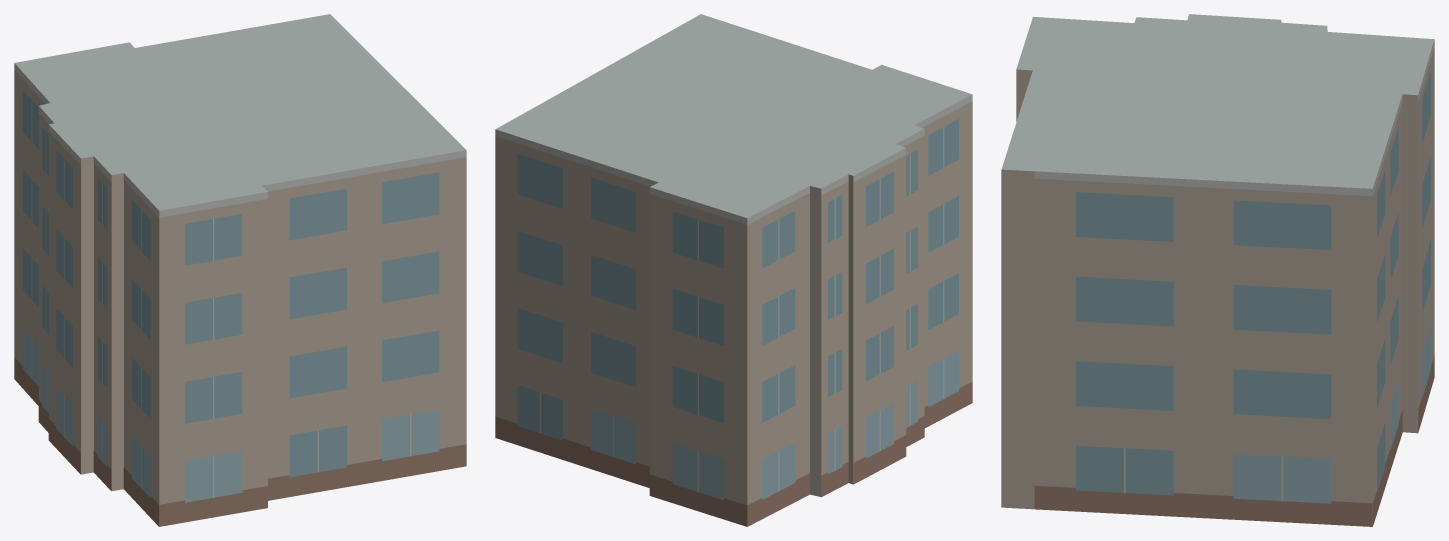
File: survey-upis-32660186.glb
The picture shows the model from 3 angles, left to right: view 1: azimuth 30°, elevation 25°; view 2: azimuth 150°, elevation 25°; view 3: azimuth 270°, elevation 25°; orthographic projection. The views are drawn at different scales.
Parts seen in each view (by area): view 1: survey-upis-32660186.tmp; view 2: survey-upis-32660186.tmp; view 3: survey-upis-32660186.tmp.
Boxes of the visible parts, x1,y1,x2,y2 form: survey-upis-32660186.tmp: [14, 14, 466, 526]; survey-upis-32660186.tmp: [495, 14, 972, 526]; survey-upis-32660186.tmp: [1001, 14, 1434, 526].
Size of the model in its own units: 12.43 by 11.2 by 13.02.
